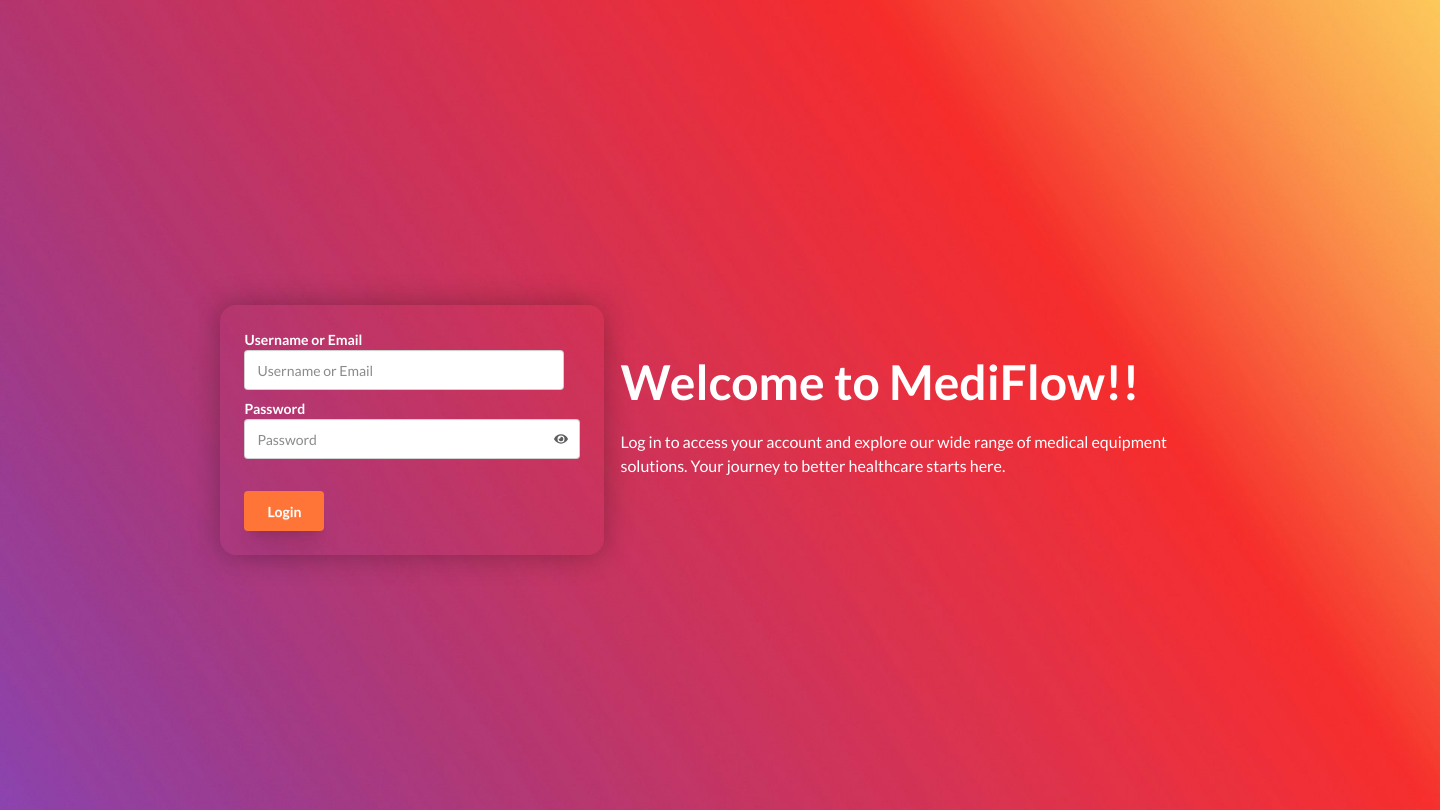
Test: Login › shows server error on failed login
Type "alice" into the field with placeholder "Username or Email" at {"x": 404, "y": 370}, box [244,350,564,390]
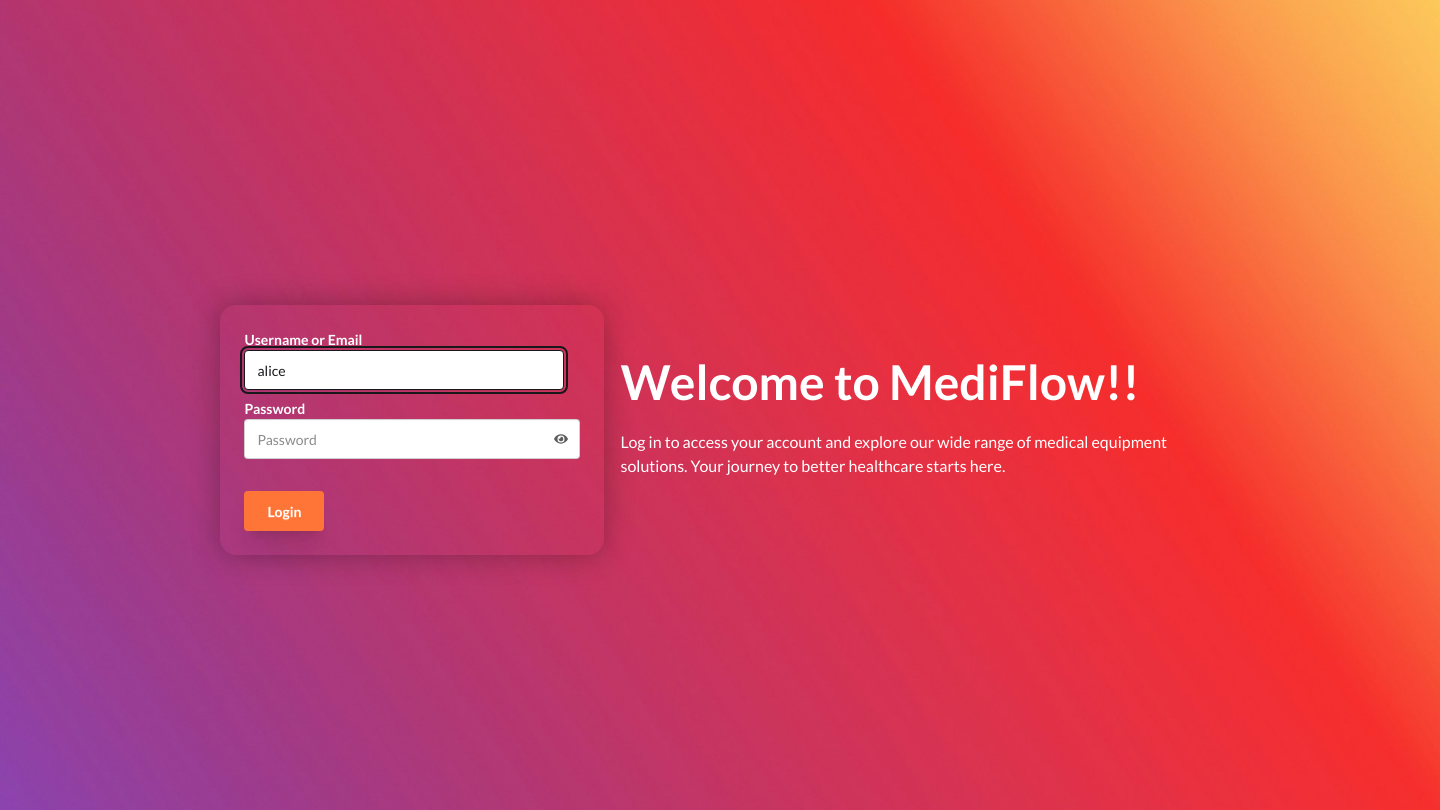
Type "wrong" into the password field with placeholder "Password" at {"x": 412, "y": 439}, box [244,419,580,459]
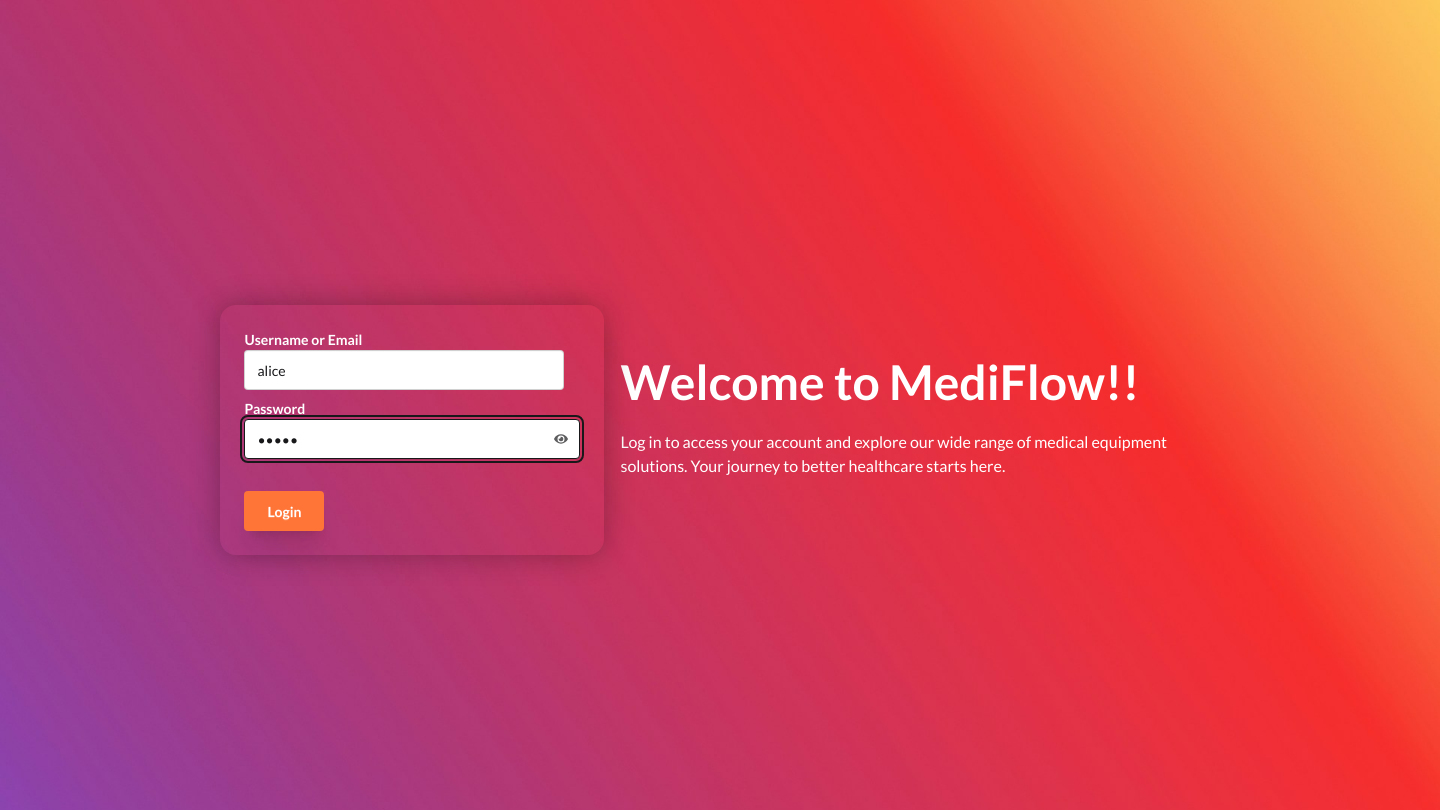
Click the button "Login" at {"x": 284, "y": 511}, box [244,491,324,531]
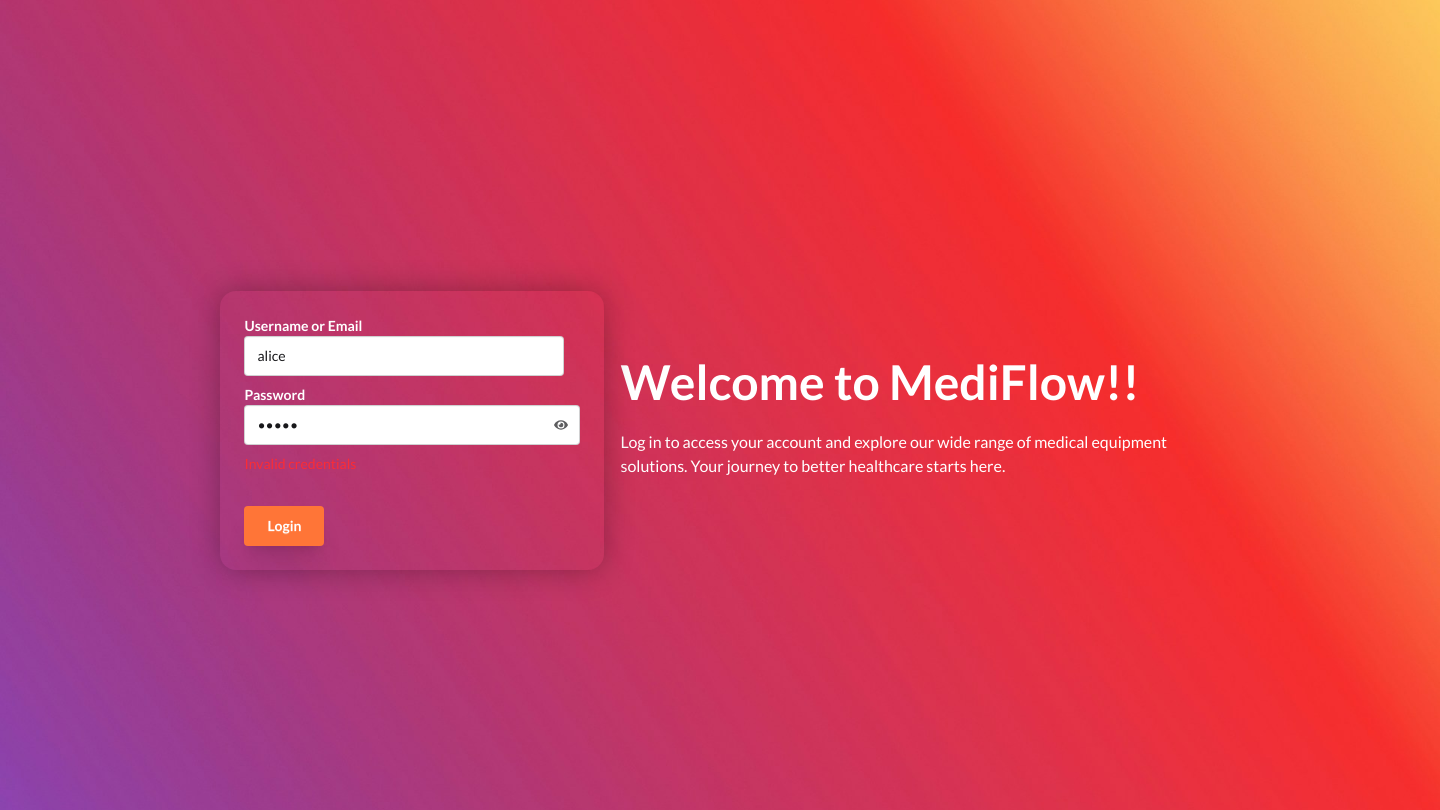
Result: the text "Invalid credentials" is shown at [244,454,356,472]
